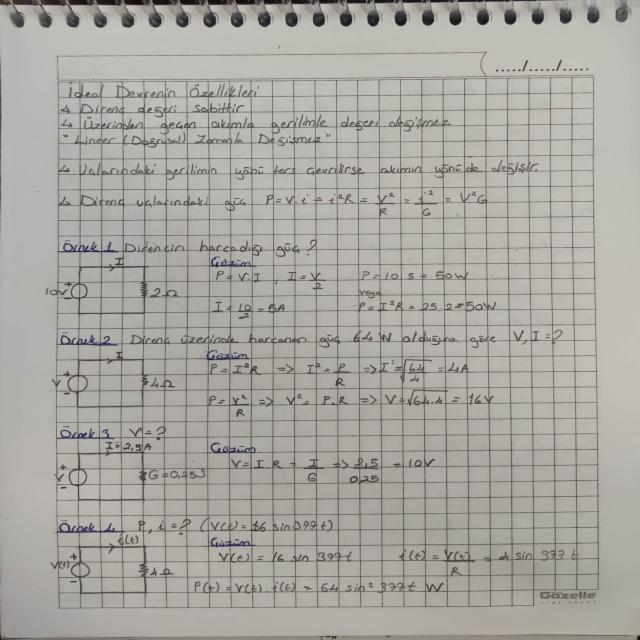image: (45, 436, 213, 508), (46, 253, 188, 323), (45, 347, 183, 418), (46, 532, 180, 595)
math: (209, 264, 504, 318), (202, 355, 480, 388), (201, 389, 501, 418), (259, 186, 490, 221), (222, 452, 444, 488), (393, 547, 584, 578), (193, 578, 452, 598), (132, 515, 340, 534), (219, 550, 358, 564)
text: (62, 79, 456, 147), (59, 162, 540, 179), (127, 329, 565, 346), (58, 189, 248, 211), (118, 239, 320, 256)
